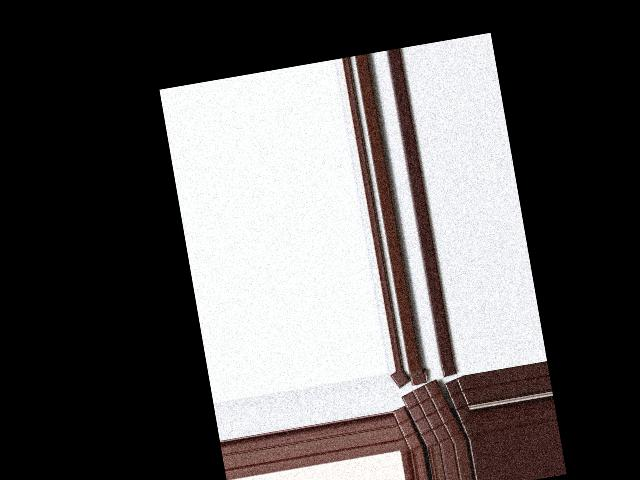chocolate: (398, 377, 464, 451)
